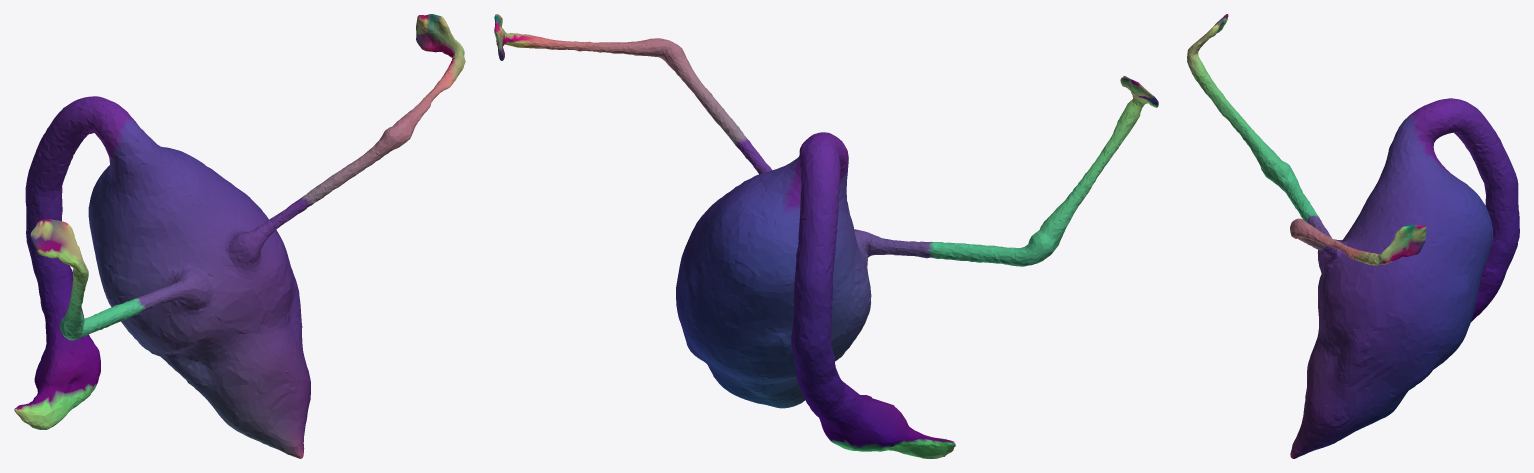
File: flamingo-13.off.obj
3 renders of one model, left to right at view 1: azimuth 30°, elevation 25°; view 2: azimuth 150°, elevation 25°; view 3: azimuth 270°, elevation 25°, orthographic. The views are drawn at different scales.
Size of the model in its own units: 1.46 by 0.9338 by 0.8731.
